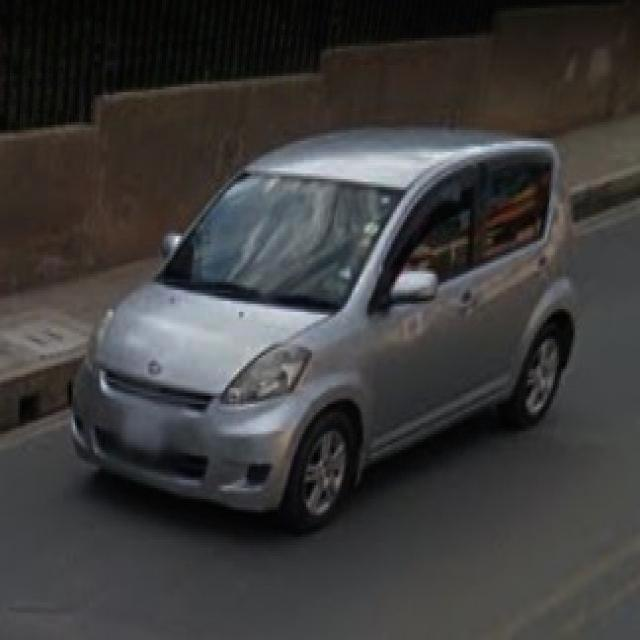car: (96, 139, 575, 532)
